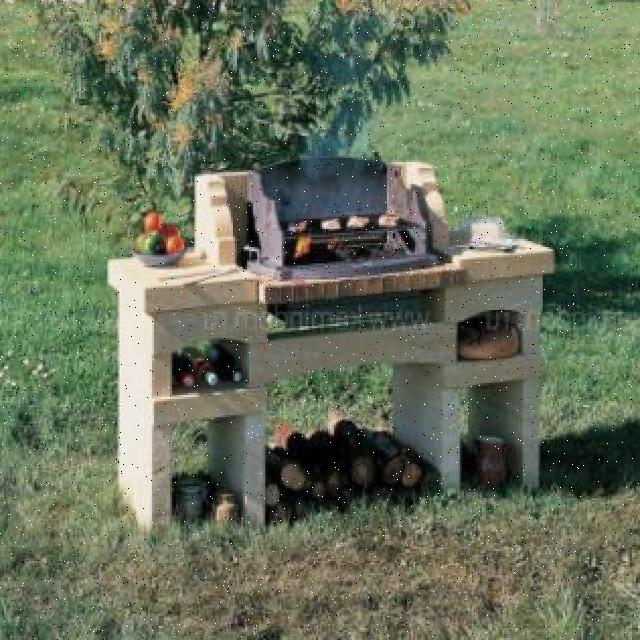fire: (292, 229, 312, 265)
smoke: (302, 71, 381, 182)
